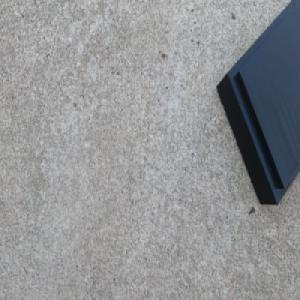PlasticPart: (215, 0, 300, 207)
